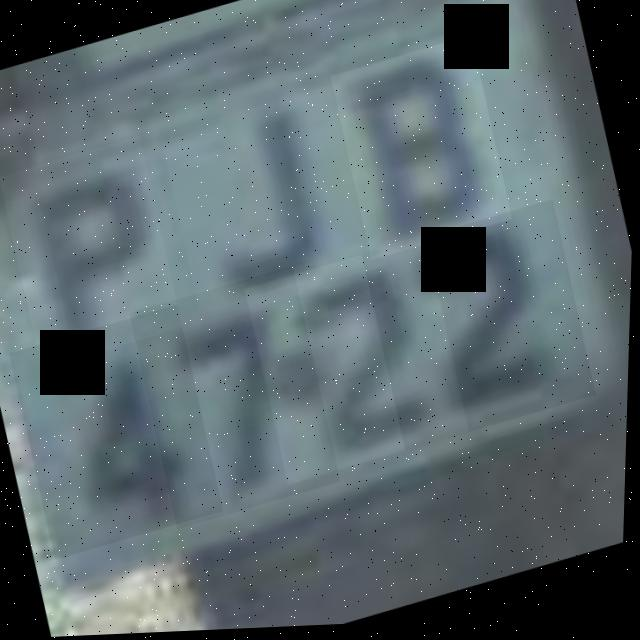2: (359, 202, 603, 456), (241, 238, 476, 489)
4: (6, 304, 231, 562)
7: (125, 266, 349, 533)
B: (327, 37, 518, 265)
J: (156, 86, 378, 317)
P: (0, 135, 189, 370)
